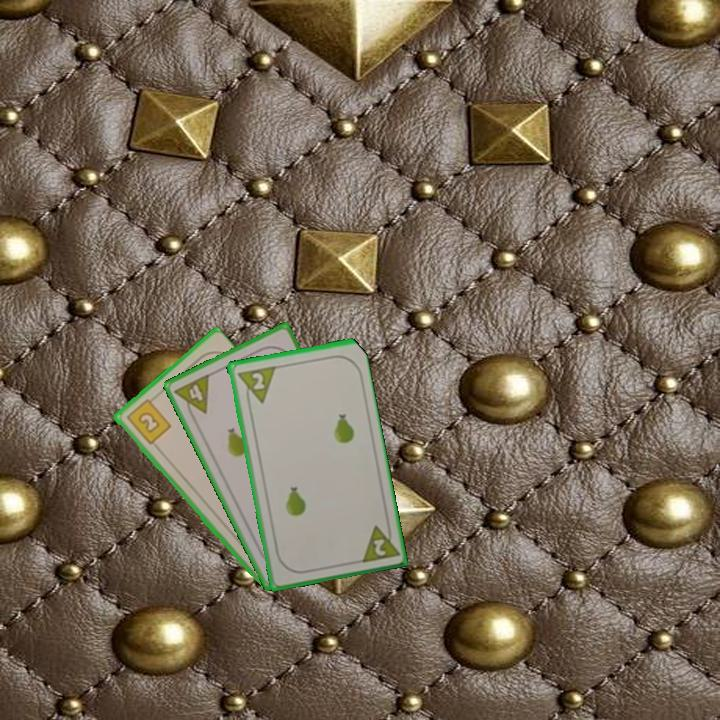2b: (122, 393, 174, 447)
2p: (356, 518, 400, 566), (233, 362, 277, 408)
4p: (170, 370, 212, 422)
